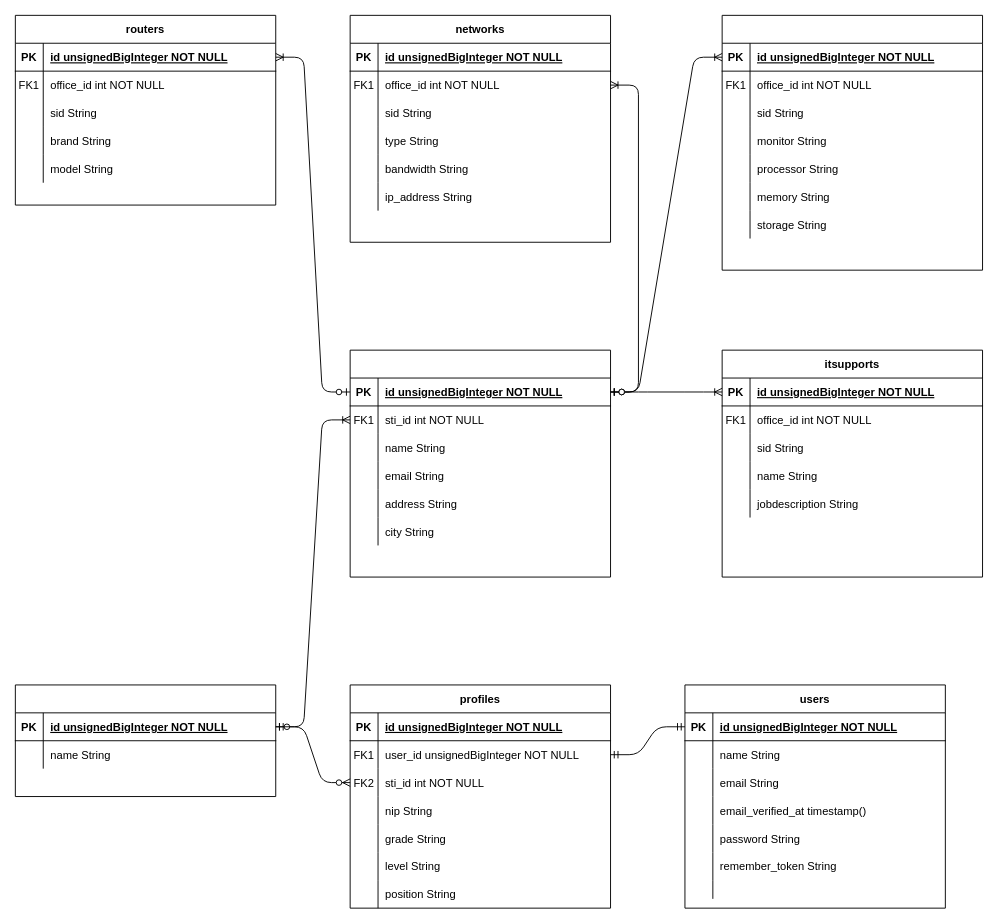
Some shapes in this 998 by 923 pixel diagram are drawn without their labels. The box of each missing label's shape, as (x1, y1, x2, y2) in pixels:
computers: (721, 14, 983, 270)
offices: (349, 349, 611, 577)
stis: (14, 684, 276, 797)
